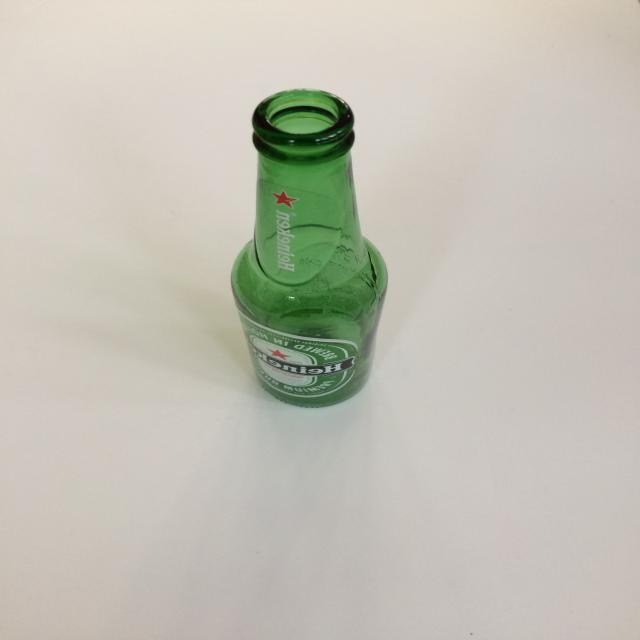glass: (218, 82, 404, 413)
